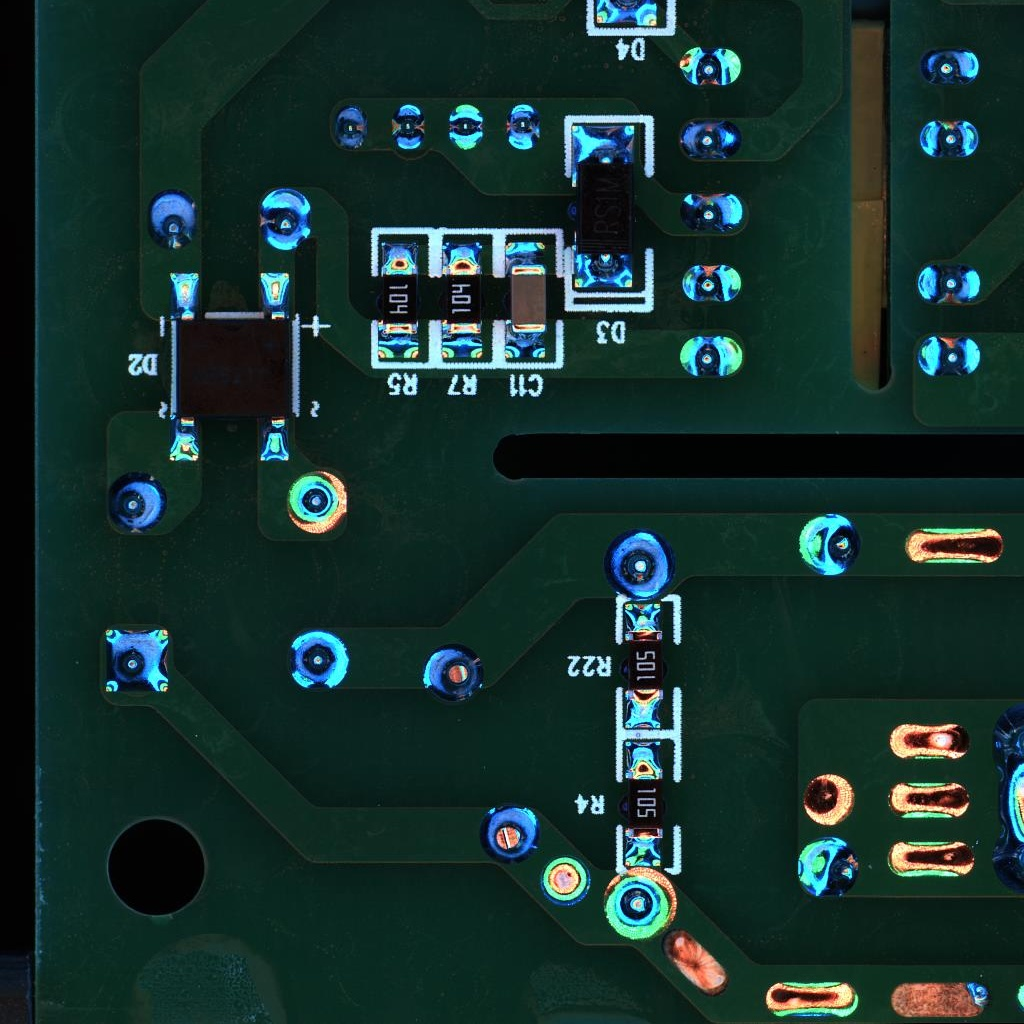spot: (603, 869, 678, 942), (604, 530, 676, 600), (101, 627, 170, 696), (284, 469, 351, 539), (793, 836, 859, 902), (795, 512, 860, 579), (286, 630, 352, 695), (102, 469, 168, 533), (479, 801, 544, 865), (419, 645, 488, 705), (257, 184, 314, 256), (145, 189, 198, 251), (914, 264, 988, 307), (679, 332, 746, 378), (675, 118, 745, 161), (915, 335, 984, 377), (676, 193, 746, 234), (677, 45, 744, 87), (679, 262, 744, 304), (540, 855, 590, 907), (921, 44, 981, 86), (919, 119, 979, 160), (504, 102, 544, 153), (446, 102, 485, 154), (391, 102, 426, 153), (331, 103, 367, 150)
